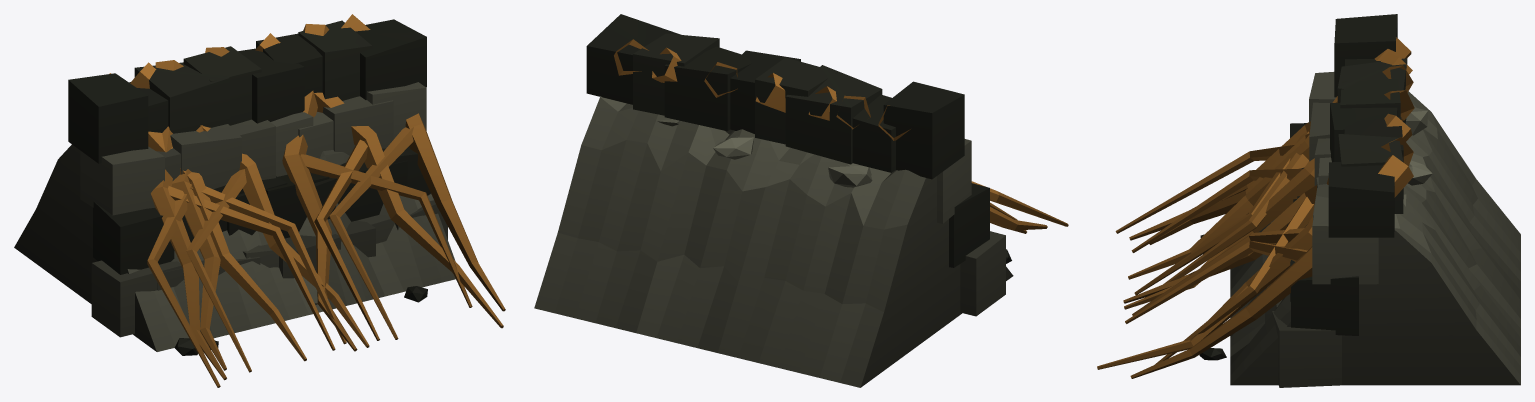
File: cliff-gleba-sides.glb
3 views of the same model, side by side, from view 1: azimuth 30°, elevation 25°; view 2: azimuth 150°, elevation 25°; view 3: azimuth 270°, elevation 25° (orthographic). The views are drawn at different scales.
Visible parts, largest first — view 1: cliff-gleba-sides; view 2: cliff-gleba-sides; view 3: cliff-gleba-sides.
Boxes of the visible parts, x1,y1,x2,y2 form: cliff-gleba-sides: [14, 14, 505, 387]; cliff-gleba-sides: [534, 14, 1068, 387]; cliff-gleba-sides: [1097, 14, 1520, 387].
Bounding box in the file's own units: 4.38 × 2.68 × 4.74.
